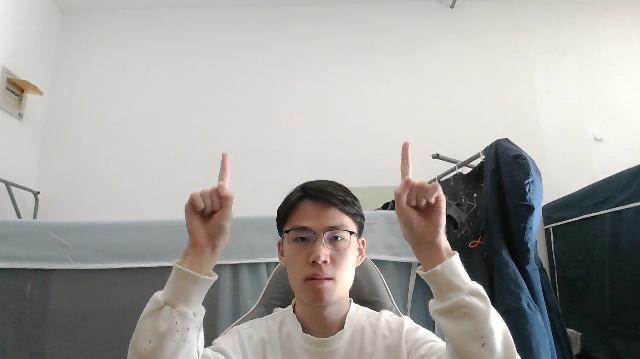one: (396, 140, 447, 246), (184, 151, 234, 252)
